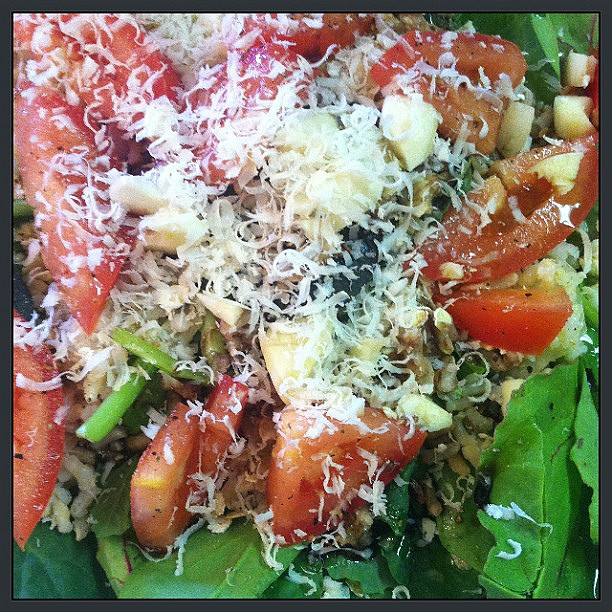chopped lettuce: (49, 507, 612, 611), (443, 354, 604, 505)
